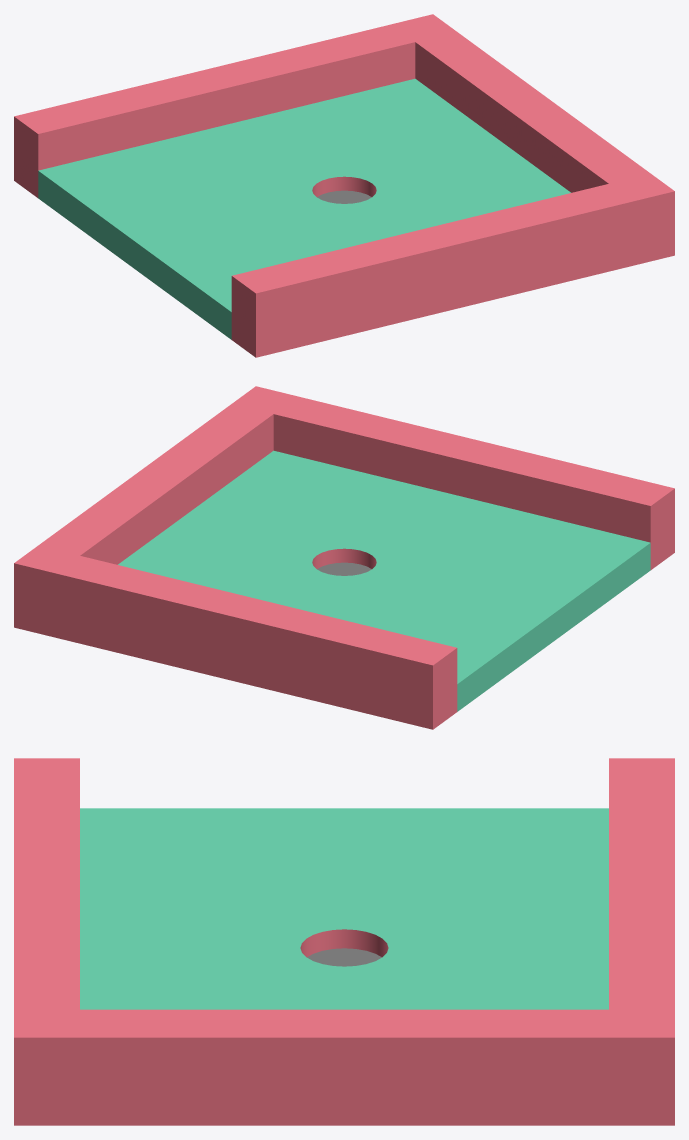
File: HoleSquare.fbx
3 views of the same model, one above another, from view 1: azimuth 30°, elevation 25°; view 2: azimuth 150°, elevation 25°; view 3: azimuth 270°, elevation 25° (orthographic). The views are drawn at different scales.
Visible parts, largest first — view 1: Borders, holeSquare; view 2: Borders, holeSquare; view 3: Borders, holeSquare.
Boxes of the visible parts, bbox=[...] form: Borders: bbox=[14, 14, 674, 357]; holeSquare: bbox=[38, 78, 570, 339]; Borders: bbox=[14, 386, 674, 729]; holeSquare: bbox=[118, 450, 650, 711]; Borders: bbox=[14, 758, 674, 1125]; holeSquare: bbox=[80, 808, 608, 1009].
Size of the model in its own units: 99.99 by 14.67 by 99.99.
